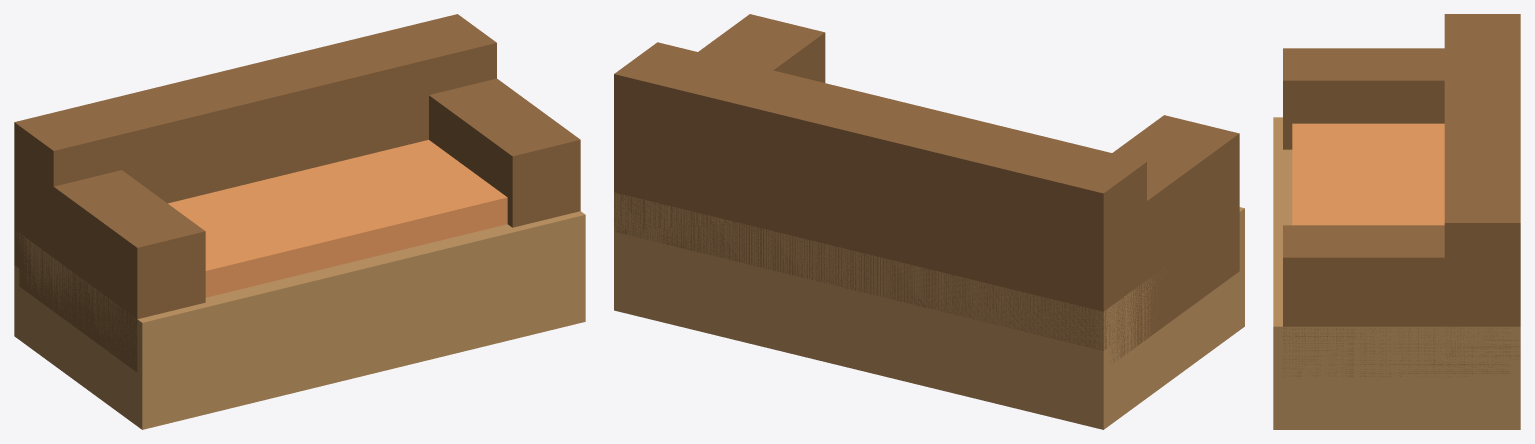
Rendered from plush_sofa.glb.
The picture shows the model from 3 angles, left to right: view 1: azimuth 30°, elevation 25°; view 2: azimuth 150°, elevation 25°; view 3: azimuth 270°, elevation 25°; orthographic projection. The views are drawn at different scales.
Visible parts, largest first — view 1: plush_sofa; view 2: plush_sofa; view 3: plush_sofa.
Part boxes in pixels (x1,y1,x2,y2): plush_sofa: (14, 14, 585, 429); plush_sofa: (614, 14, 1244, 429); plush_sofa: (1273, 14, 1520, 429).
Bounding box in the file's own units: 52 × 24 × 26.
